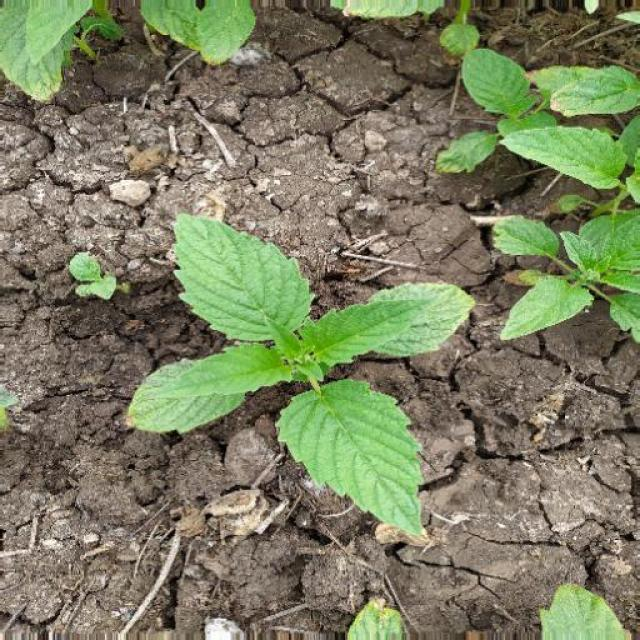crop: (112, 212, 472, 548), (430, 45, 640, 356)
